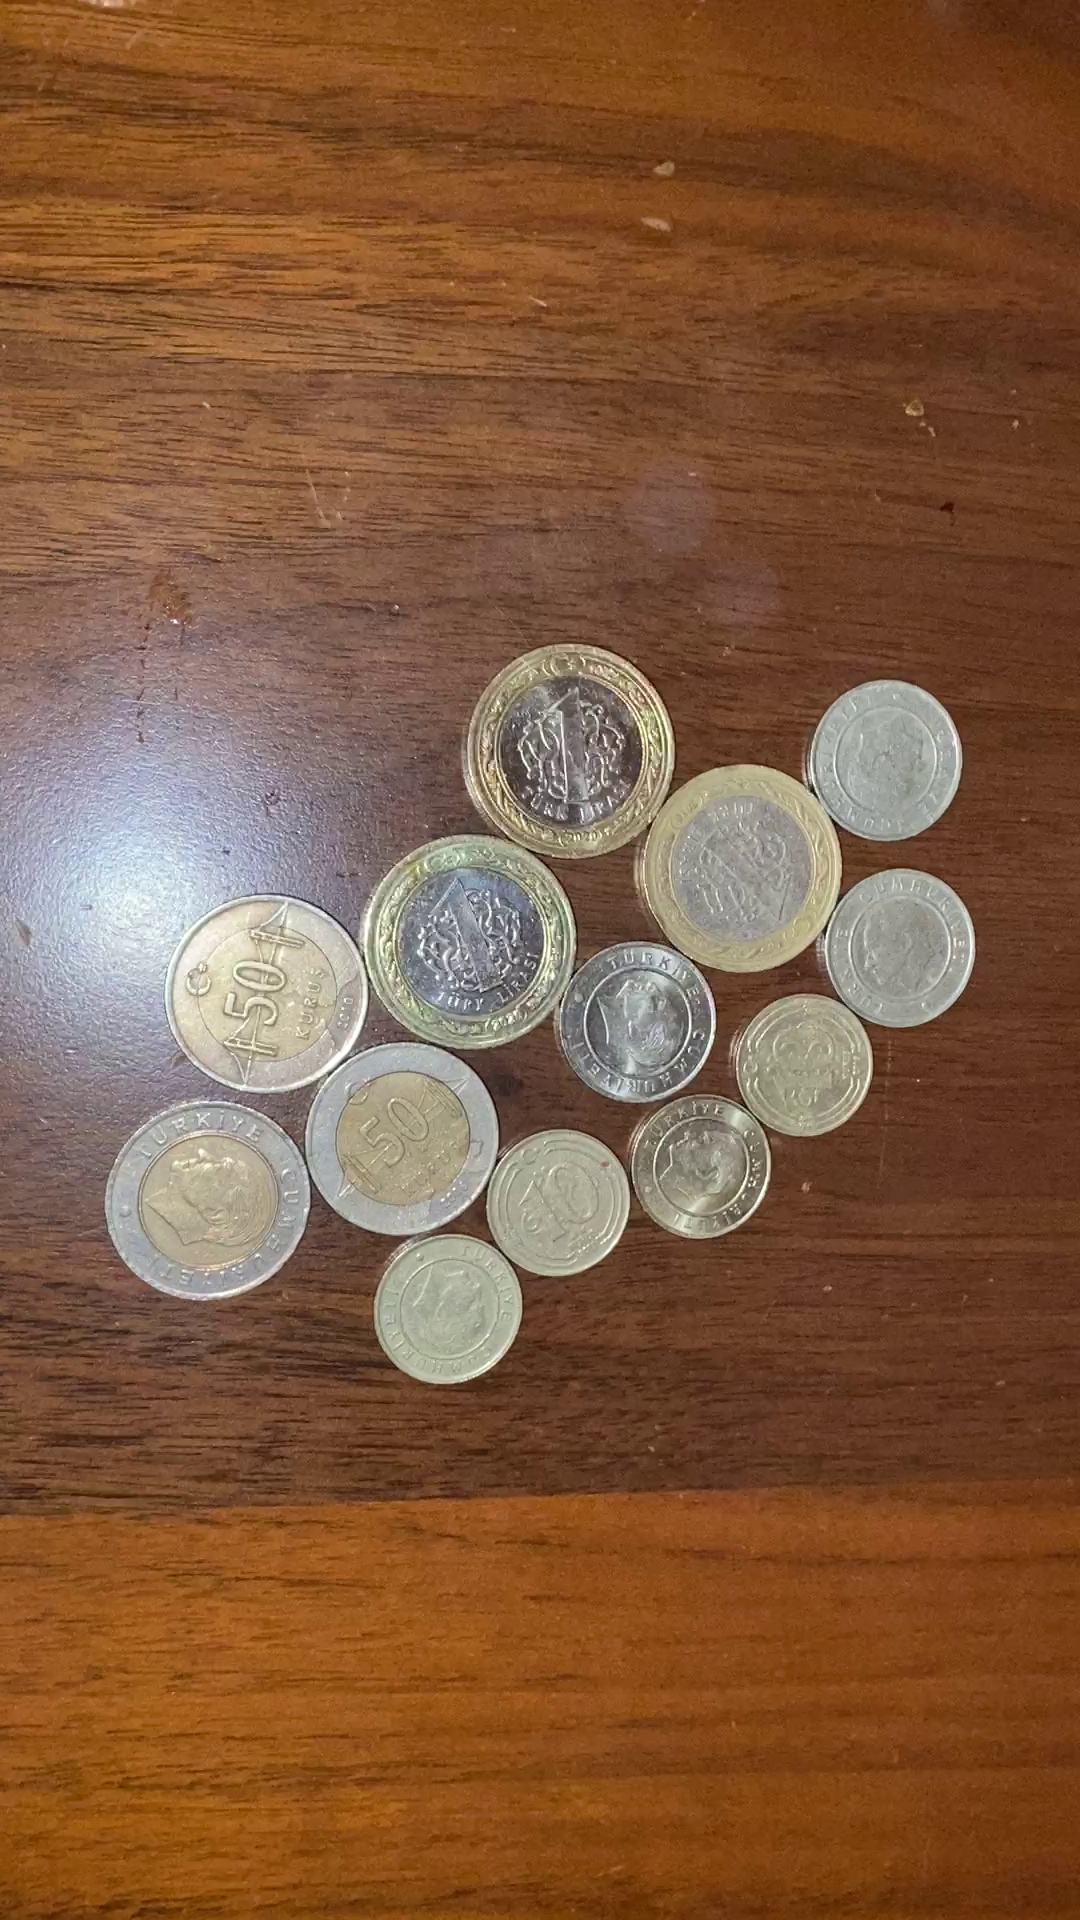1_tl: (361, 833, 589, 1054), (462, 642, 679, 870), (633, 760, 857, 978)
